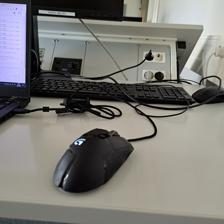mouse: (52, 127, 135, 195)
